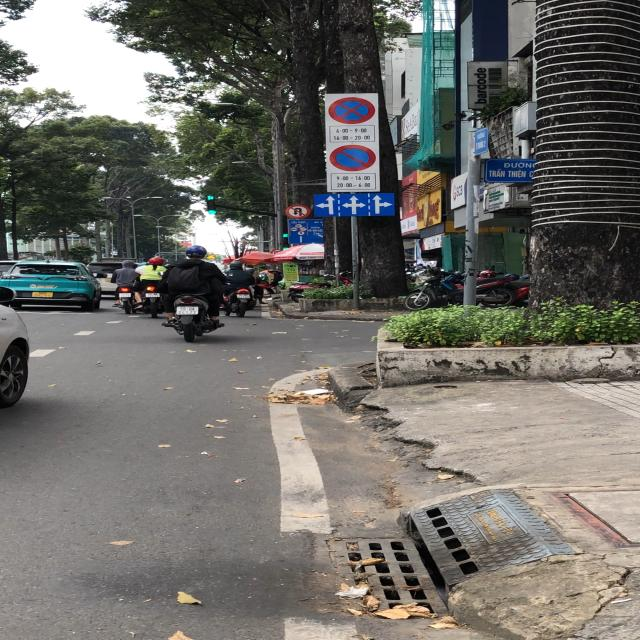Bien bao cam do xe: (327, 144, 378, 174)
Bien bao cam dung xe va do xe: (326, 94, 378, 125)
Bien bao cam quay dau xe: (283, 204, 312, 219)
